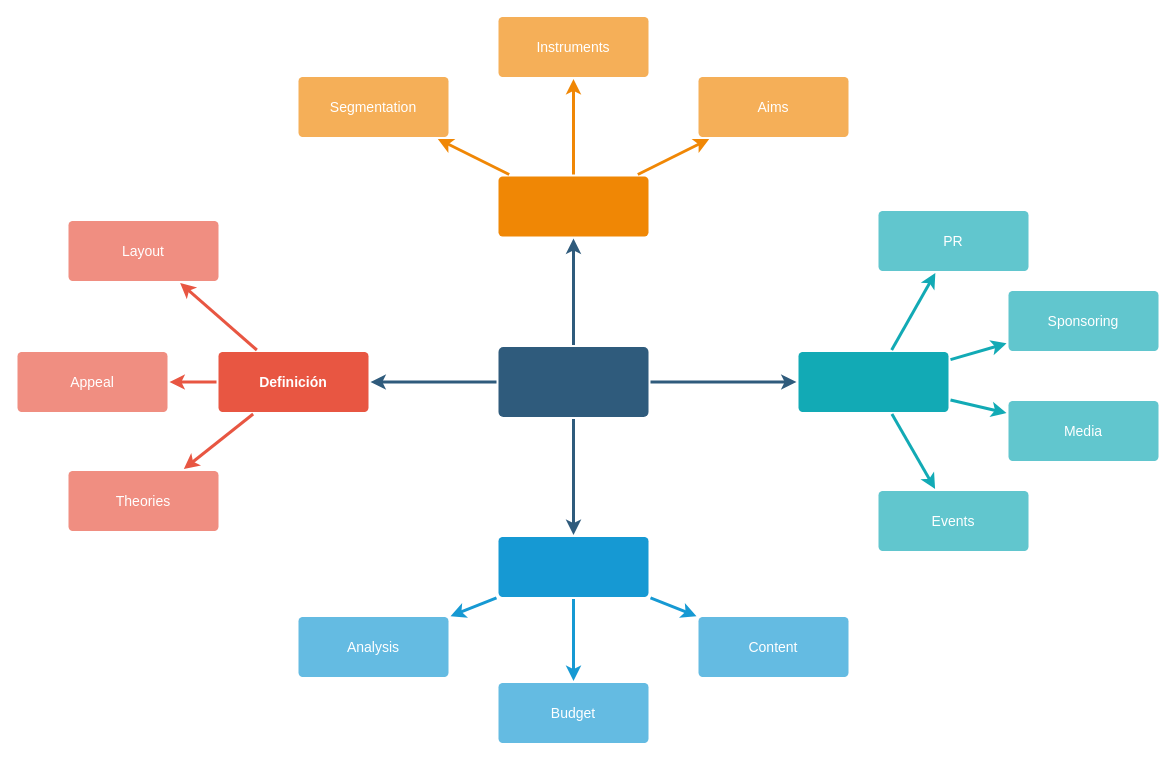
Image size: 1175x760. Some labels were removed from this diagram. The shapes that lost their labels are listed below. From the top down, each one's centre as x and y in pixels, then its label:
At point 573,206: "Tipos".
At point 573,381: "Bases de datos".
At point 873,382: "Componentes".
At point 573,566: "Modelos".
